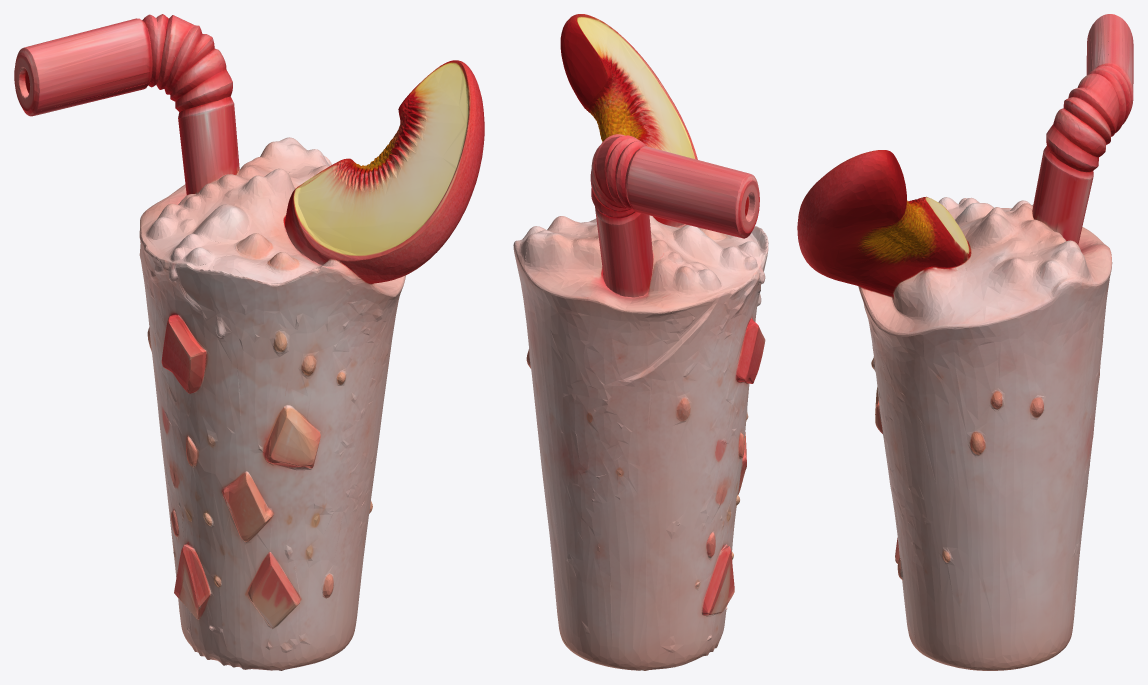
Rendered from Web_MilkSlush_Peach.obj.
3 views of the same model, side by side, from view 1: azimuth 30°, elevation 25°; view 2: azimuth 150°, elevation 25°; view 3: azimuth 270°, elevation 25° (orthographic). The views are drawn at different scales.
Parts seen in each view (by area): view 1: Web_MilkSlush_Peach; view 2: Web_MilkSlush_Peach; view 3: Web_MilkSlush_Peach.
Boxes of the visible parts, bbox=[...] form: Web_MilkSlush_Peach: bbox=[14, 14, 484, 670]; Web_MilkSlush_Peach: bbox=[513, 14, 768, 670]; Web_MilkSlush_Peach: bbox=[797, 14, 1133, 670].
Size of the model in its own units: 0.5745 by 1 by 0.5548.
1 material, 1 textured.
